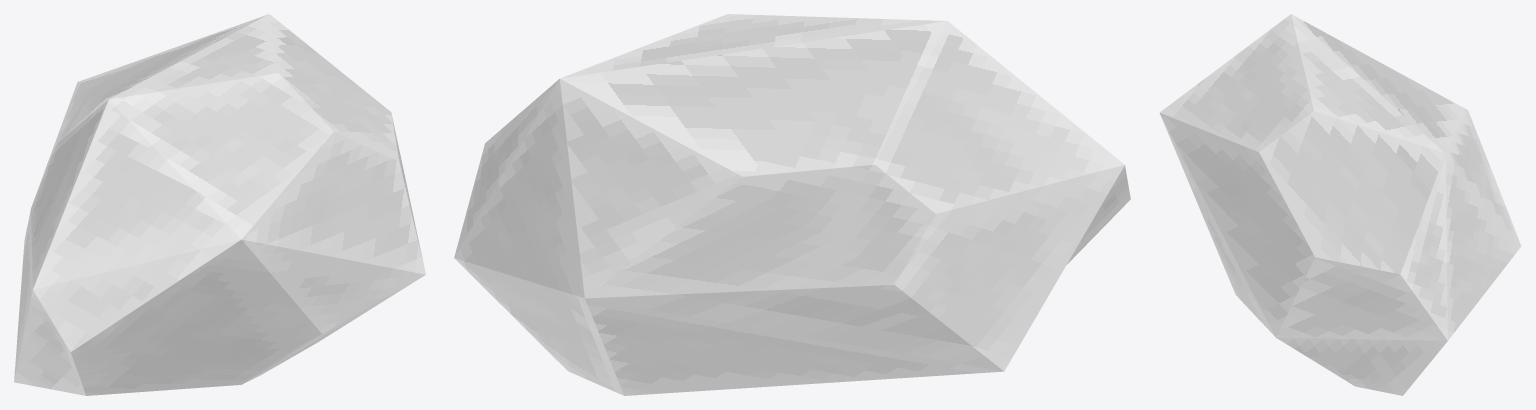
Rendered from white_rock.glb.
3 views of the same model, side by side, from view 1: azimuth 30°, elevation 25°; view 2: azimuth 150°, elevation 25°; view 3: azimuth 270°, elevation 25° (orthographic). The views are drawn at different scales.
Visible parts, largest first — view 1: White_rock; view 2: White_rock; view 3: White_rock.
Boxes of the visible parts, x1,y1,x2,y2 form: White_rock: (14, 14, 425, 395); White_rock: (454, 14, 1130, 395); White_rock: (1159, 14, 1521, 395).
Size of the model in its own units: 1.69 by 1.17 by 1.38.
Materials: 1 (1 with a texture image).
